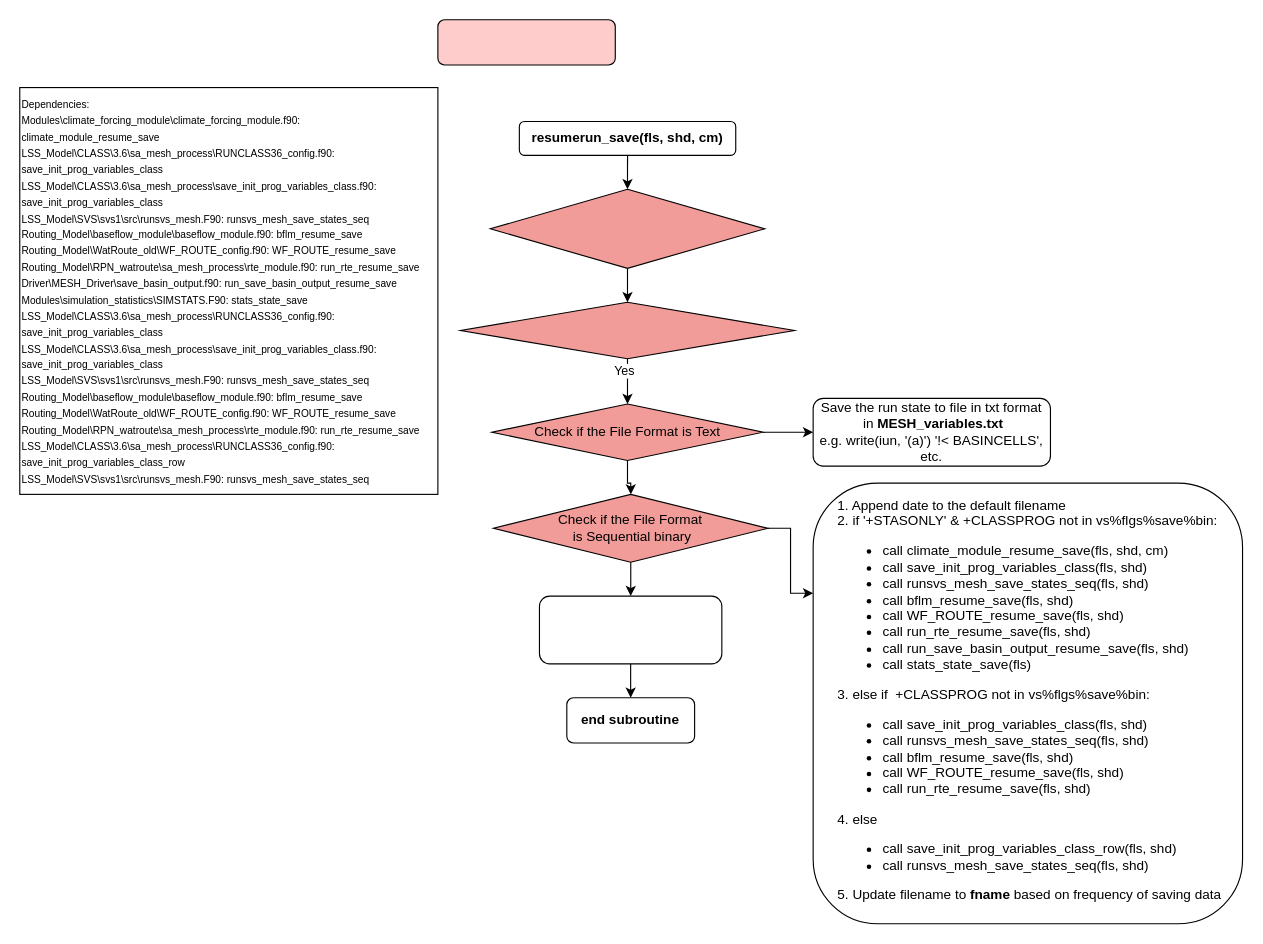
Some shapes in this 1263 by 944 pixel diagram are drawn without their labels. The shapes that lost their labels are listed below. From the top down, each one's box as (x1, y1, x2, y2) in pixels, then its label:
(437, 19, 615, 65): resumerun_save.f90
(489, 188, 765, 268): Is head node & vs%flgs%save%state
(459, 301, 795, 359): Check if now is the time for the I/O operation
(538, 595, 722, 664): Save the resume date to a file named auto_resume.ini based on frequency flags
